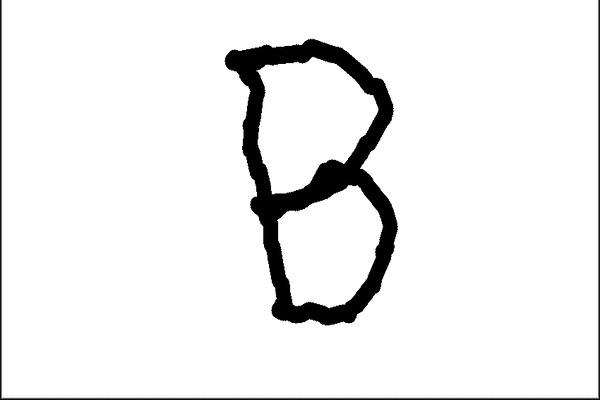B: (217, 31, 403, 330)
